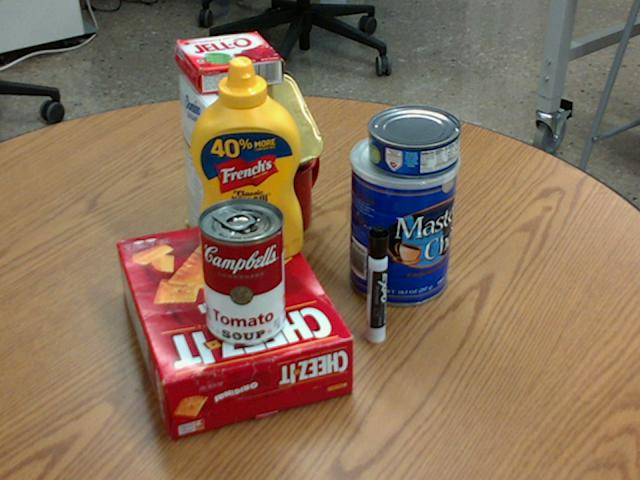cracker_box: (118, 213, 354, 438)
gelatin_box: (176, 32, 283, 93)
large_marker: (365, 225, 388, 343)
master_chef_can: (347, 129, 460, 306)
mug: (232, 135, 321, 236)
mustard_bottle: (189, 56, 301, 262)
potted_meat_can: (221, 74, 323, 192)
sugar_box: (180, 71, 248, 265)
tomato_soup_can: (198, 197, 285, 345)
tuna_fish_can: (368, 105, 461, 177)
